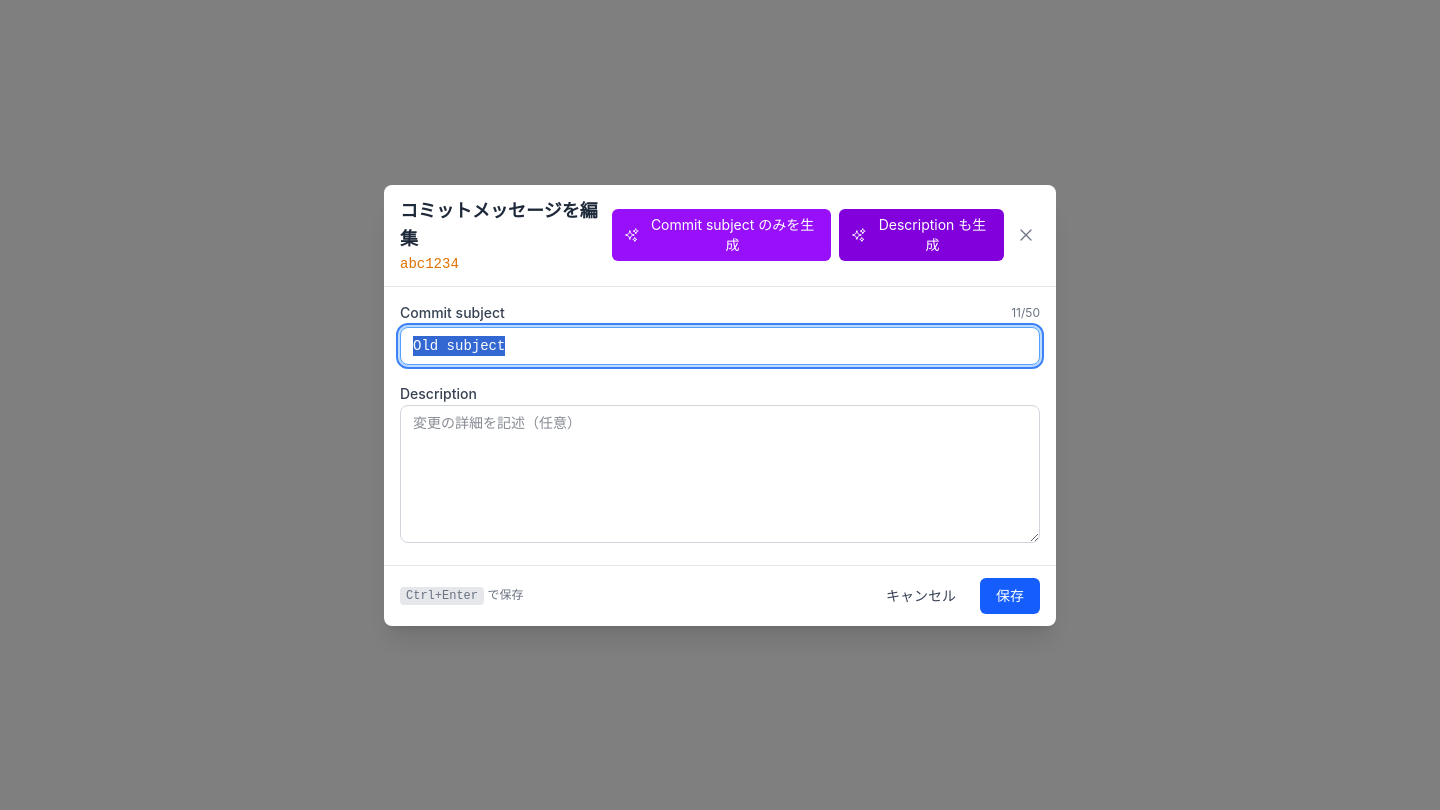
Test: RewordModal › AI 生成 › git-sc が利用可能な場合は subject 生成結果を入力欄に反映する
Click the button "Commit subject のみを生成": (722, 235) top-left (612, 209), bottom-right (831, 261)
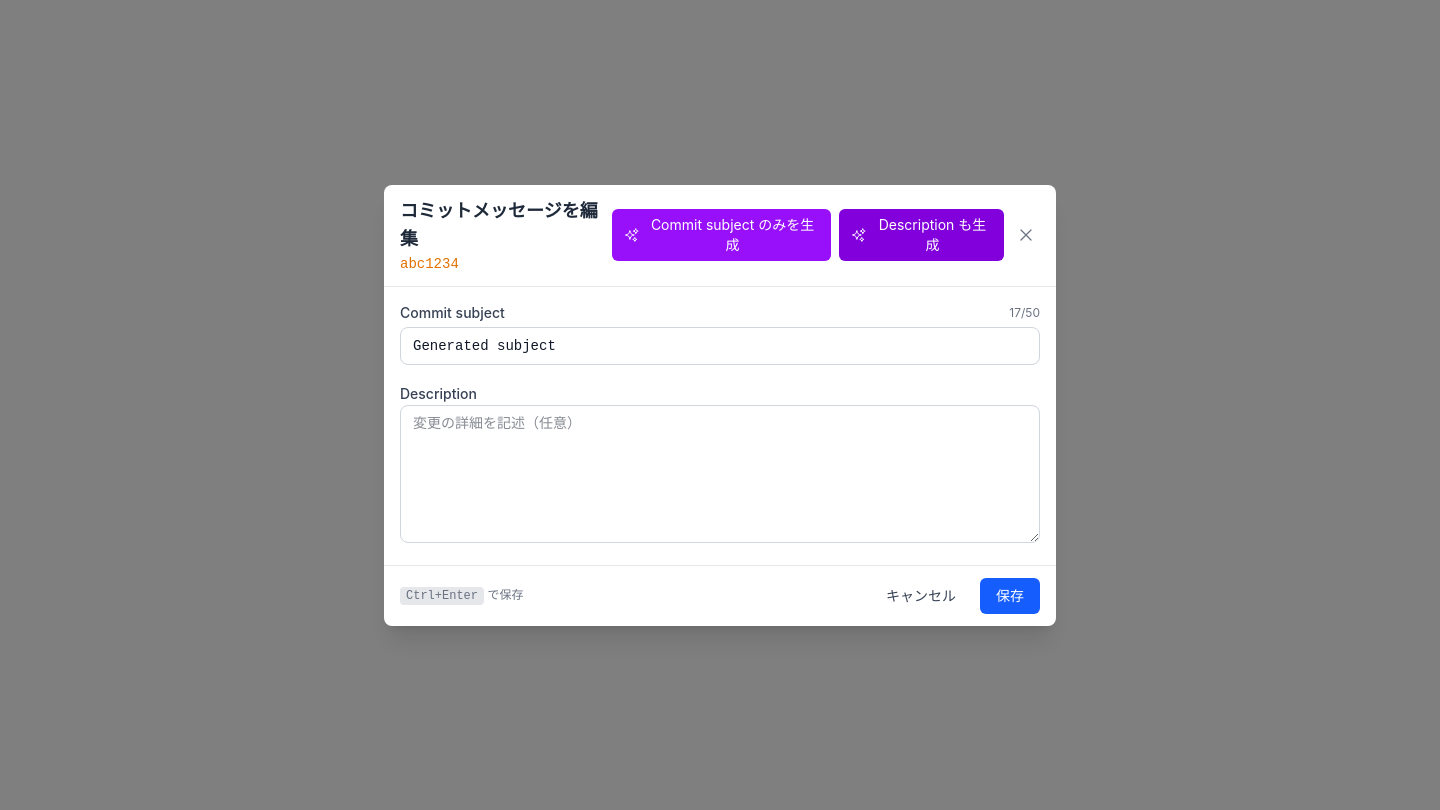
Expected: the text box labelled "Description" is empty, top-left (400, 404), bottom-right (1040, 542)
Now the field labelled "Commit subject" holds "Generated subject", box top-left (400, 326), bottom-right (1040, 364)
